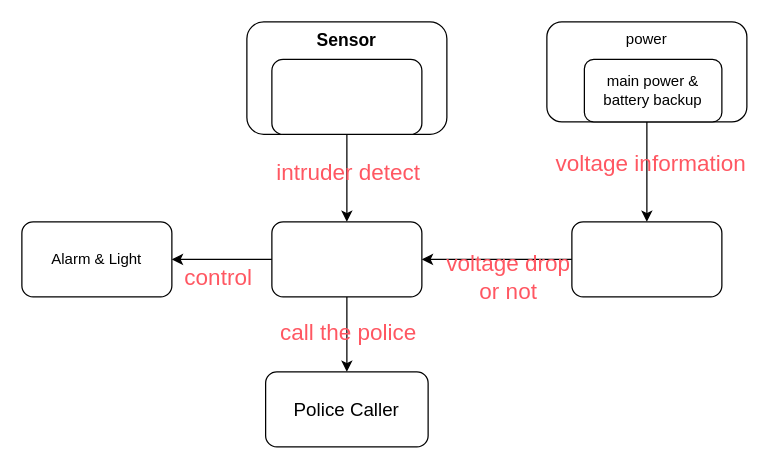
Some shapes in this 769 by 469 pixel diagram are drawn without their labels. Each missing label, with the centre of its shape:
(movement detectors & doorsdetectors & window sensors): (x=346, y=96)
Manager: (x=346, y=259)
power circuit monitor: (x=646, y=259)
